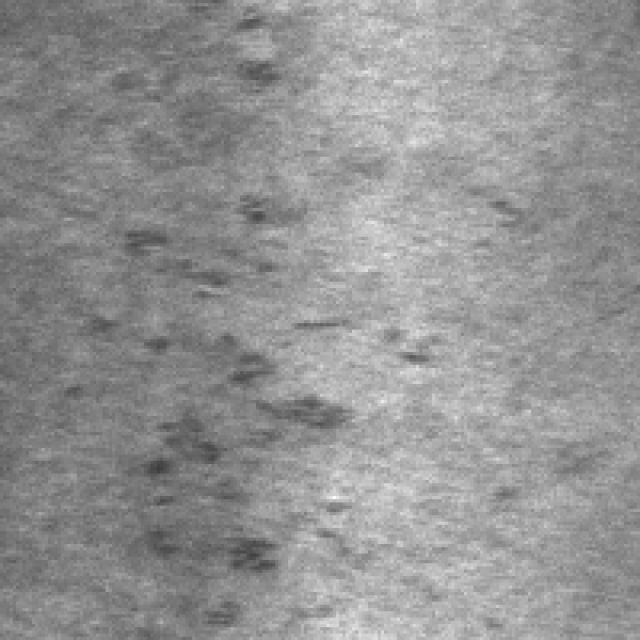rolled-in_scale: (73, 170, 460, 473), (122, 317, 374, 637)
